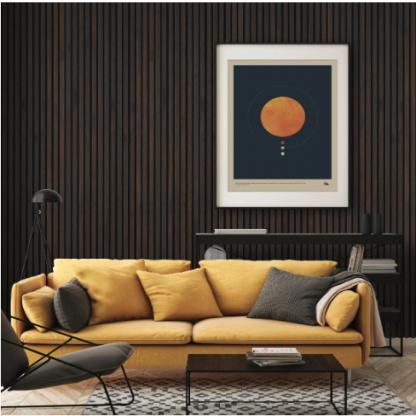Wall Panel: (0, 0, 416, 365)
